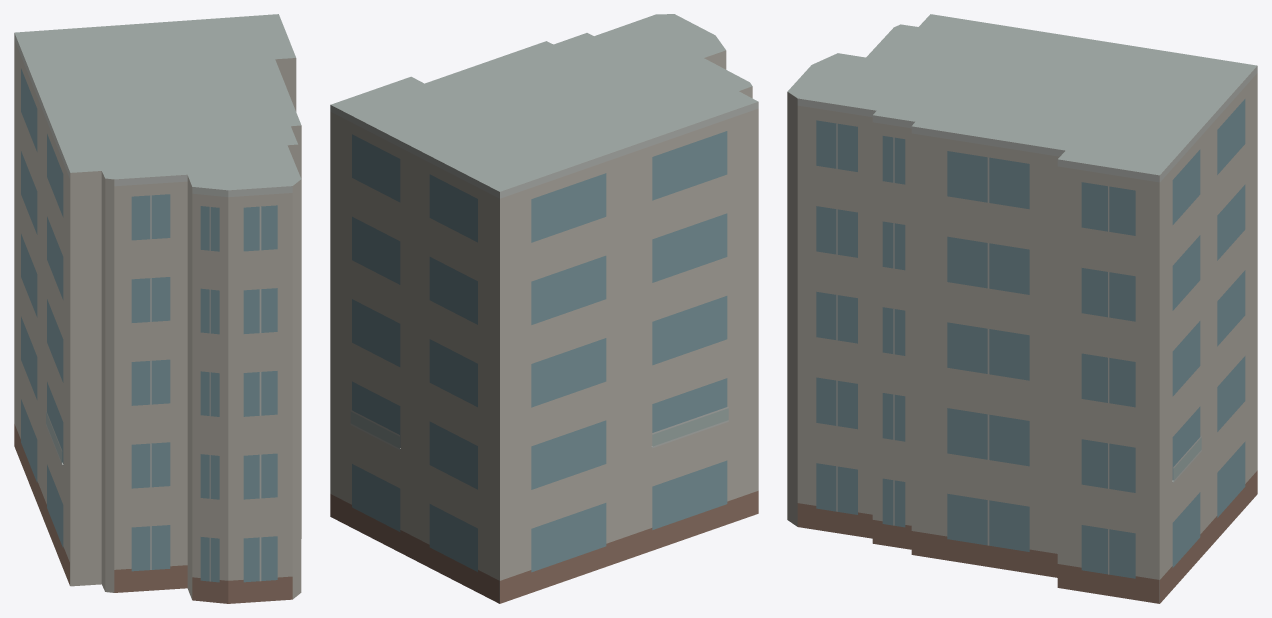
The model's file is survey-upis-32874597.glb.
3 views of the same model, side by side, from view 1: azimuth 30°, elevation 25°; view 2: azimuth 150°, elevation 25°; view 3: azimuth 270°, elevation 25° (orthographic). The views are drawn at different scales.
Parts seen in each view (by area): view 1: survey-upis-32874597.tmp; view 2: survey-upis-32874597.tmp; view 3: survey-upis-32874597.tmp.
Boxes of the visible parts, box(x1,y1,x2,y2) form: survey-upis-32874597.tmp: box(14, 14, 301, 603); survey-upis-32874597.tmp: box(330, 14, 758, 603); survey-upis-32874597.tmp: box(787, 14, 1257, 603).
Size of the model in its own units: 11.88 by 14.7 by 14.63.
